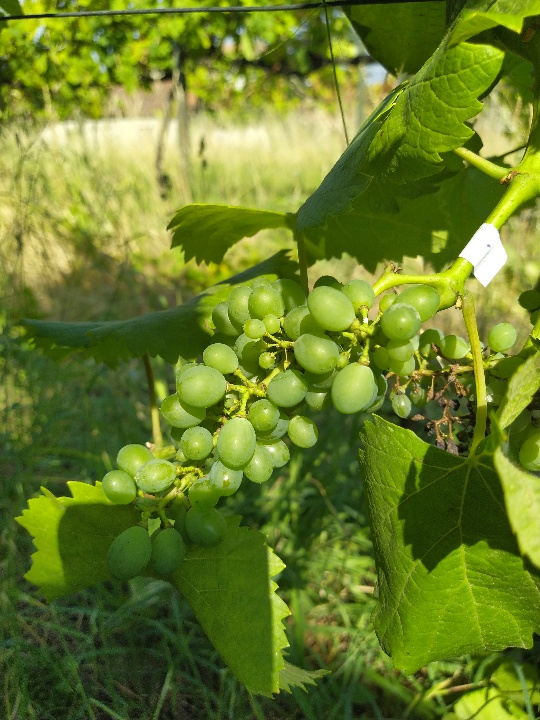grape: (92, 275, 451, 588)
